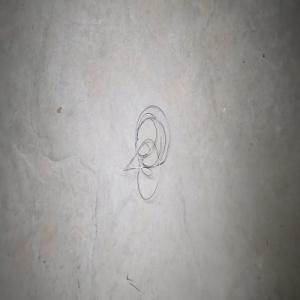Wire: (123, 105, 169, 199)
